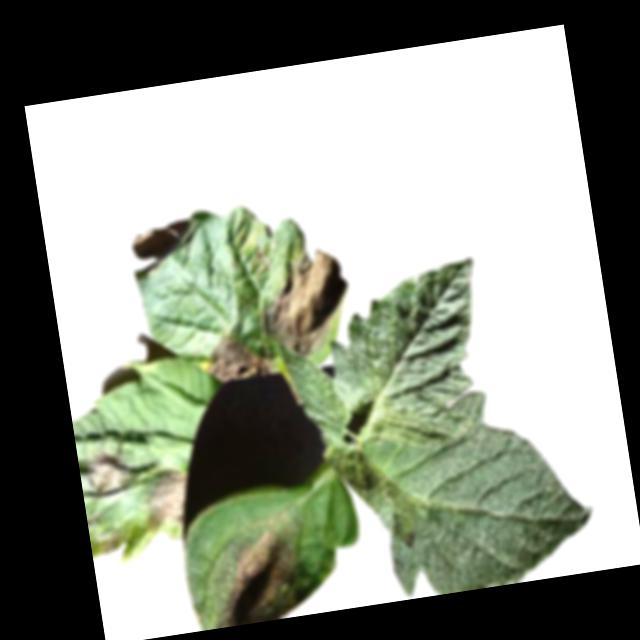Late_blight: (252, 245, 358, 364), (207, 523, 308, 627), (199, 326, 274, 387), (126, 219, 197, 278), (139, 465, 193, 531), (82, 445, 136, 502), (99, 531, 122, 553)
healthy: (358, 407, 600, 602), (324, 257, 501, 460), (279, 337, 354, 449)
